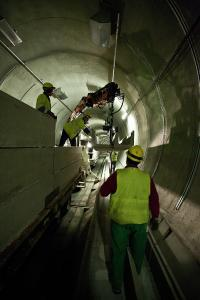helmet: (126, 144, 147, 165), (42, 81, 57, 95)
